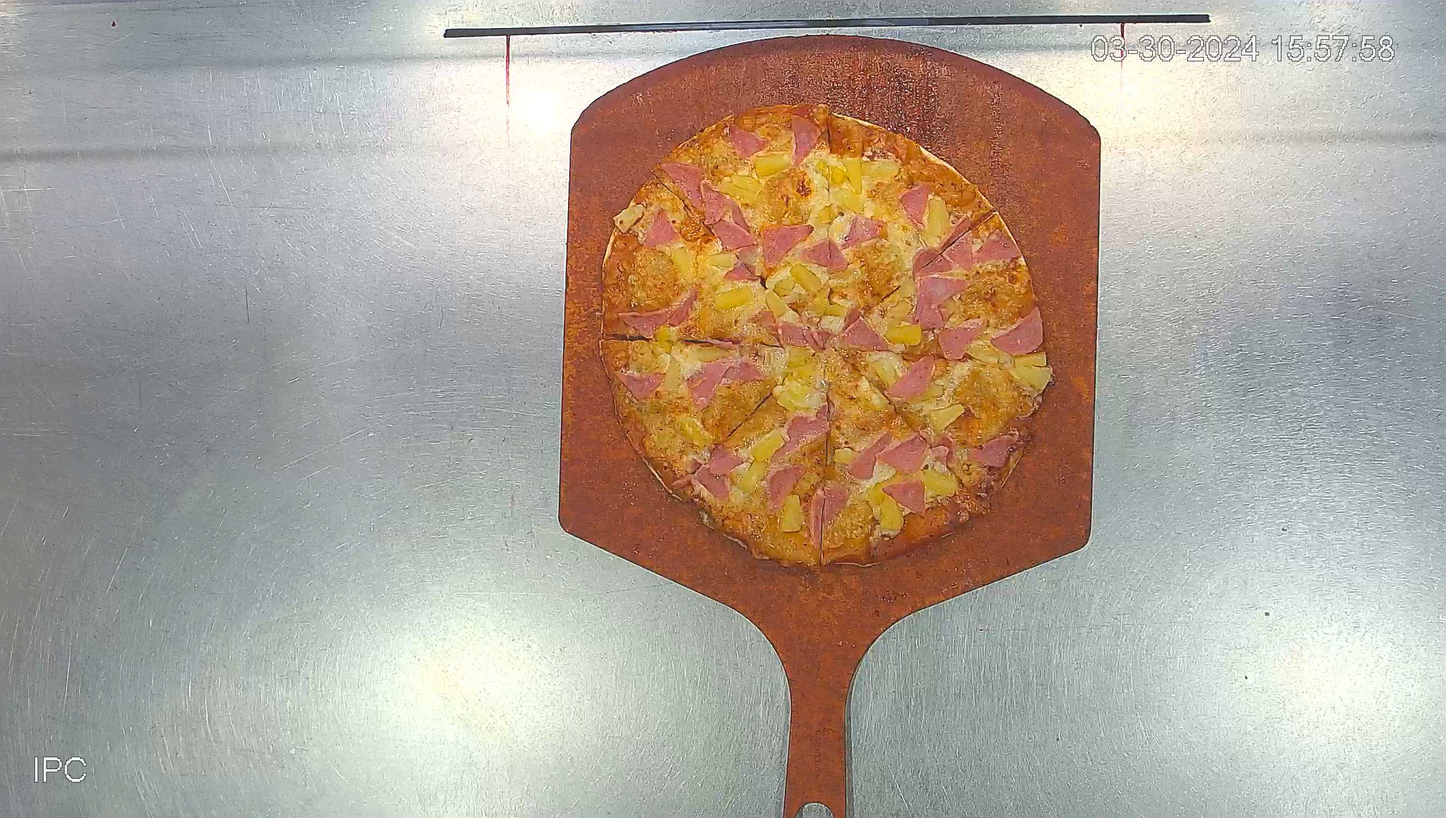manager_choice: (603, 99, 1047, 575)
